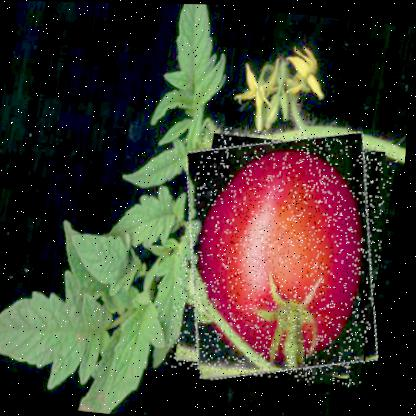tomato: (167, 122, 403, 387)
